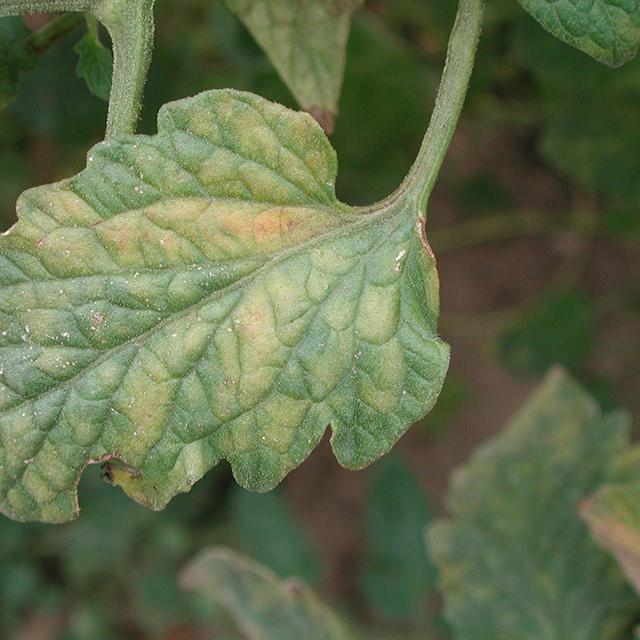Tomato mold leaf: (0, 89, 453, 548)
